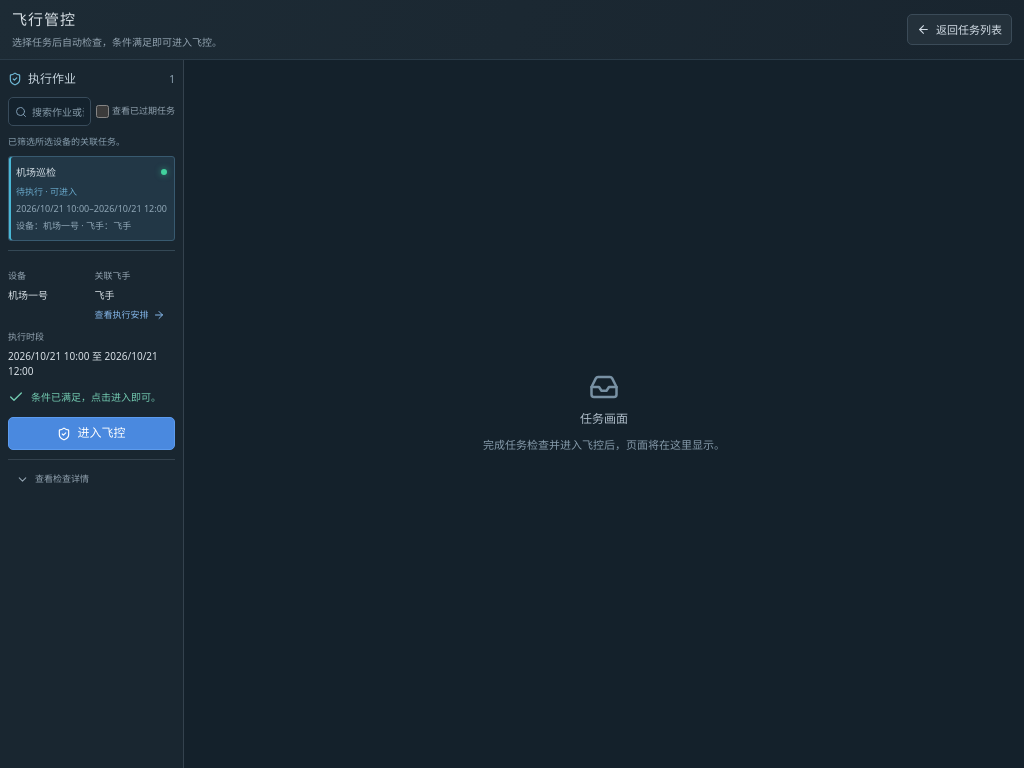
Test case: task-gated native flight workspace › handles gateway document rejection as business recheck without a login reset
Click the button "进入飞控": (92, 434) [8,417,175,450]
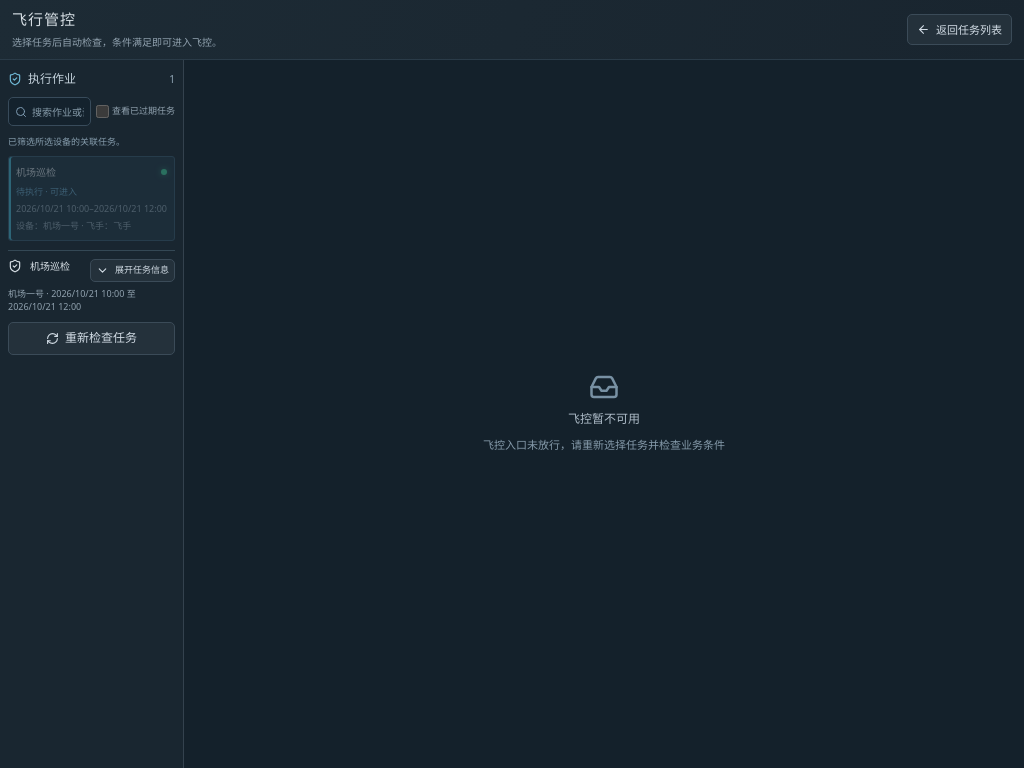
Check: the button "重新检查任务" is shown, box [8,322,175,355]
